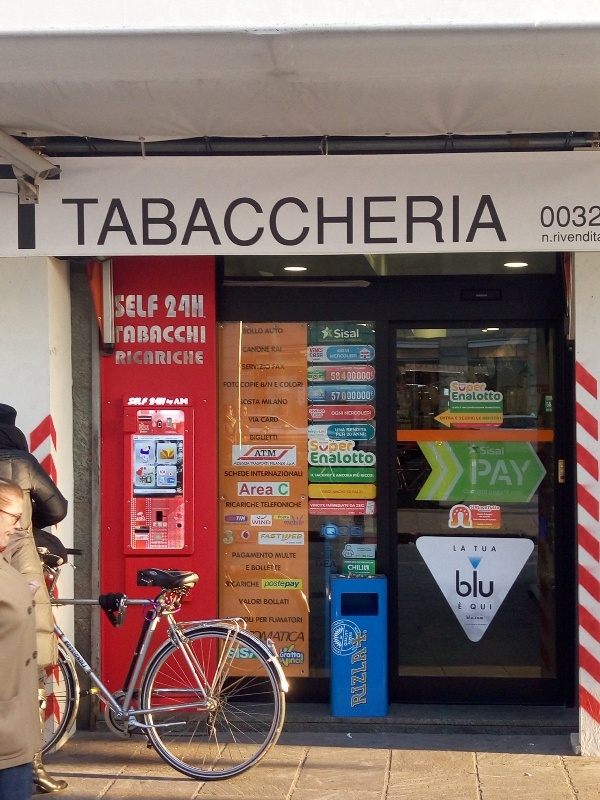text: (353, 628, 368, 709), (65, 192, 80, 247), (81, 192, 96, 247), (97, 192, 112, 247), (113, 192, 128, 247), (129, 192, 144, 247), (145, 192, 160, 247), (161, 192, 176, 247), (177, 192, 192, 247), (193, 192, 208, 247), (209, 192, 224, 247), (225, 192, 240, 247), (241, 192, 256, 247), (257, 192, 272, 247), (273, 192, 288, 247), (289, 192, 304, 247), (305, 192, 320, 247), (321, 192, 336, 247), (337, 192, 352, 247), (353, 192, 368, 247), (369, 192, 384, 247), (385, 192, 400, 247), (401, 192, 416, 247), (417, 192, 432, 247), (433, 192, 448, 247), (449, 192, 464, 247), (465, 192, 480, 247), (481, 192, 496, 247), (497, 192, 510, 247), (481, 459, 496, 487), (497, 459, 512, 487), (513, 459, 528, 487), (465, 570, 480, 598), (129, 292, 144, 319), (177, 293, 192, 320), (545, 203, 560, 229), (561, 203, 576, 229), (577, 203, 592, 229), (145, 292, 159, 319), (481, 570, 494, 598), (115, 292, 128, 319), (193, 293, 205, 320), (289, 646, 303, 668), (129, 324, 144, 344), (145, 324, 160, 344), (161, 324, 176, 344), (177, 324, 192, 344), (165, 293, 176, 320), (114, 324, 128, 344), (193, 324, 207, 344), (129, 350, 144, 366), (145, 350, 160, 366), (161, 350, 176, 366), (177, 350, 192, 366), (481, 513, 496, 528), (472, 459, 480, 487), (456, 570, 464, 598), (337, 440, 353, 454), (321, 440, 336, 454), (289, 513, 305, 526), (545, 231, 560, 244), (561, 231, 576, 244), (577, 231, 592, 244), (257, 483, 272, 496), (289, 631, 305, 643), (116, 350, 128, 366), (593, 203, 600, 229), (321, 452, 336, 464), (337, 452, 352, 464), (353, 452, 368, 464), (321, 526, 336, 538), (337, 526, 352, 538), (273, 631, 288, 643), (193, 350, 204, 366), (280, 646, 288, 668), (61, 192, 64, 247), (465, 383, 480, 394), (337, 371, 352, 382), (353, 371, 368, 382), (337, 390, 352, 401), (353, 390, 368, 401), (244, 483, 256, 496), (337, 329, 352, 339), (308, 368, 320, 380), (225, 530, 234, 546), (310, 440, 320, 454), (481, 446, 496, 455), (465, 392, 480, 401), (481, 392, 496, 401), (452, 383, 464, 394), (321, 560, 337, 568), (229, 648, 240, 659), (353, 526, 363, 538), (273, 581, 288, 589), (273, 534, 288, 542), (129, 397, 144, 405), (345, 630, 352, 647), (279, 483, 288, 496), (289, 534, 303, 542), (452, 392, 464, 401), (311, 452, 320, 464), (263, 631, 272, 643), (473, 513, 480, 528), (465, 488, 480, 495), (241, 598, 256, 605), (241, 581, 256, 588), (257, 565, 272, 572), (257, 450, 272, 457), (540, 203, 544, 229), (150, 397, 160, 407), (241, 648, 250, 659), (481, 546, 497, 552), (273, 599, 289, 605), (289, 581, 301, 589), (593, 231, 600, 244), (241, 616, 254, 623), (227, 581, 240, 588), (243, 346, 256, 353), (257, 346, 270, 353), (337, 353, 352, 359), (353, 410, 368, 416), (273, 617, 288, 623), (241, 553, 256, 559), (257, 553, 272, 559), (241, 502, 256, 508), (273, 502, 288, 508), (225, 471, 240, 477), (257, 471, 272, 477), (273, 471, 288, 477), (257, 435, 272, 441), (241, 399, 256, 405), (273, 399, 288, 405), (273, 364, 288, 370), (225, 382, 240, 388), (241, 382, 256, 388), (481, 603, 492, 611), (177, 397, 188, 405), (289, 617, 303, 623), (289, 471, 303, 477), (274, 382, 288, 388), (289, 382, 303, 388), (242, 364, 256, 370), (470, 603, 480, 611), (262, 534, 272, 542), (227, 502, 240, 508), (289, 502, 302, 508), (243, 328, 256, 334), (257, 364, 270, 370), (481, 505, 496, 510), (353, 561, 368, 566), (337, 366, 352, 371), (497, 446, 505, 455), (497, 491, 509, 497), (289, 652, 301, 658), (337, 620, 345, 629), (248, 631, 256, 640), (276, 553, 288, 559), (466, 615, 480, 620), (454, 545, 464, 552), (353, 428, 367, 433), (354, 432, 368, 437), (257, 520, 271, 525), (161, 397, 168, 407), (309, 408, 320, 414), (353, 565, 364, 571), (257, 617, 268, 623), (261, 502, 272, 508), (261, 417, 272, 423), (261, 382, 272, 388), (547, 402, 560, 407), (353, 366, 366, 371), (283, 513, 288, 526), (257, 461, 270, 466), (273, 461, 286, 466), (241, 542, 257, 546), (273, 346, 282, 353), (167, 398, 176, 405), (353, 329, 359, 339), (337, 349, 352, 353), (369, 452, 374, 464), (337, 474, 352, 478), (353, 474, 368, 478), (353, 490, 368, 494), (246, 565, 256, 571), (273, 328, 283, 334), (529, 459, 531, 487), (322, 490, 336, 494), (273, 565, 281, 572), (469, 505, 480, 510), (309, 348, 320, 353), (309, 353, 320, 358), (331, 371, 336, 382), (369, 371, 374, 382), (331, 390, 336, 401), (369, 390, 374, 401), (241, 471, 250, 477), (263, 399, 272, 405), (483, 416, 496, 420), (241, 461, 251, 466), (278, 515, 288, 520), (137, 515, 144, 522), (321, 368, 325, 380), (344, 410, 352, 416), (280, 652, 288, 658), (321, 474, 333, 478), (356, 504, 368, 508), (264, 599, 272, 605), (266, 581, 272, 589), (248, 417, 256, 423), (280, 382, 288, 388), (465, 406, 480, 409), (481, 406, 496, 409), (353, 338, 362, 343), (311, 412, 320, 417), (337, 428, 346, 433), (513, 492, 524, 496), (481, 383, 485, 394), (357, 548, 368, 552), (481, 488, 487, 495), (349, 631, 352, 645), (233, 553, 240, 559), (289, 553, 296, 559), (459, 603, 464, 611), (465, 416, 475, 420), (337, 338, 345, 343), (310, 504, 320, 508), (490, 491, 496, 497), (474, 546, 480, 552), (455, 416, 464, 420), (452, 406, 464, 409), (497, 392, 501, 401), (330, 353, 336, 359), (337, 433, 346, 437), (311, 474, 320, 478), (337, 504, 349, 507), (257, 631, 261, 640), (250, 435, 256, 441), (273, 417, 279, 423), (266, 328, 272, 334), (257, 328, 263, 334), (337, 411, 344, 416), (345, 561, 352, 566), (257, 598, 262, 605), (289, 461, 296, 466), (321, 339, 329, 343), (316, 560, 320, 568), (145, 397, 149, 405), (330, 338, 336, 343), (346, 338, 352, 343), (321, 408, 326, 414), (346, 428, 352, 433), (321, 508, 336, 510), (241, 516, 246, 522), (251, 471, 256, 477), (250, 461, 256, 466), (273, 435, 278, 441), (139, 424, 144, 430), (145, 424, 150, 430), (361, 474, 368, 478), (252, 565, 256, 572), (273, 450, 277, 457), (333, 620, 336, 629), (337, 491, 346, 494), (327, 504, 336, 507), (369, 561, 374, 566), (235, 461, 240, 466), (440, 417, 448, 420), (353, 353, 357, 359), (346, 433, 352, 437), (348, 565, 352, 571), (353, 508, 365, 510), (236, 516, 240, 522), (257, 399, 261, 405), (459, 416, 464, 420), (334, 329, 336, 339), (332, 411, 336, 416), (315, 474, 320, 478), (369, 474, 374, 478), (321, 504, 326, 508), (252, 520, 256, 525), (235, 542, 240, 546), (449, 417, 455, 420), (369, 410, 372, 416), (311, 508, 320, 510), (337, 508, 346, 510), (269, 617, 272, 623), (223, 530, 224, 546), (497, 513, 498, 528), (497, 505, 500, 510), (333, 473, 336, 478), (347, 491, 352, 494), (257, 581, 259, 588), (543, 231, 544, 244), (273, 483, 274, 496), (497, 416, 500, 420), (497, 406, 501, 409), (369, 548, 372, 552), (353, 504, 356, 508), (346, 508, 352, 510), (257, 502, 259, 508), (257, 417, 259, 423), (257, 382, 259, 388), (481, 615, 483, 620), (321, 348, 323, 353), (321, 353, 323, 358), (321, 412, 323, 417), (270, 461, 272, 466), (477, 417, 480, 420), (333, 491, 336, 494), (318, 339, 320, 343), (350, 504, 352, 508), (465, 545, 466, 552), (239, 598, 240, 605), (145, 515, 146, 522), (273, 553, 274, 559), (335, 428, 336, 433), (287, 461, 288, 466), (511, 492, 512, 496)
